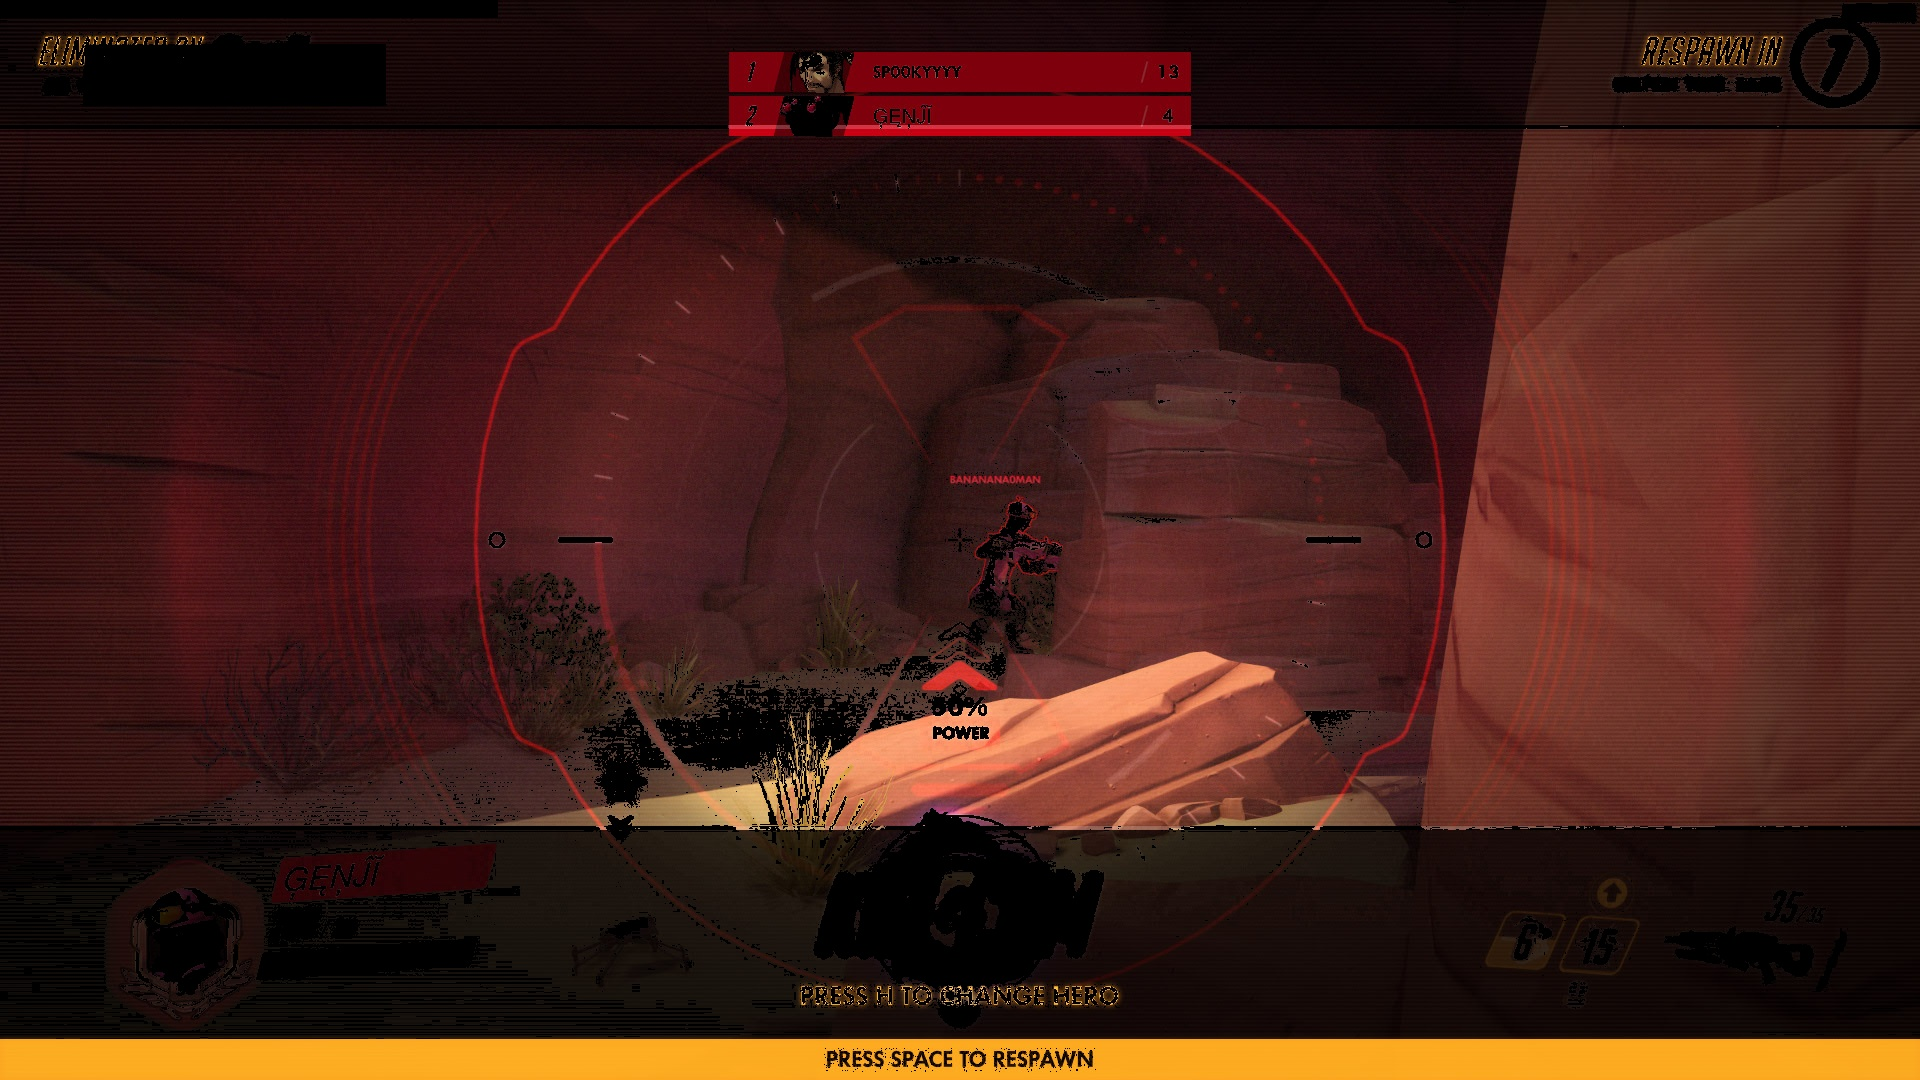widowmaker: (957, 495, 1071, 665)
